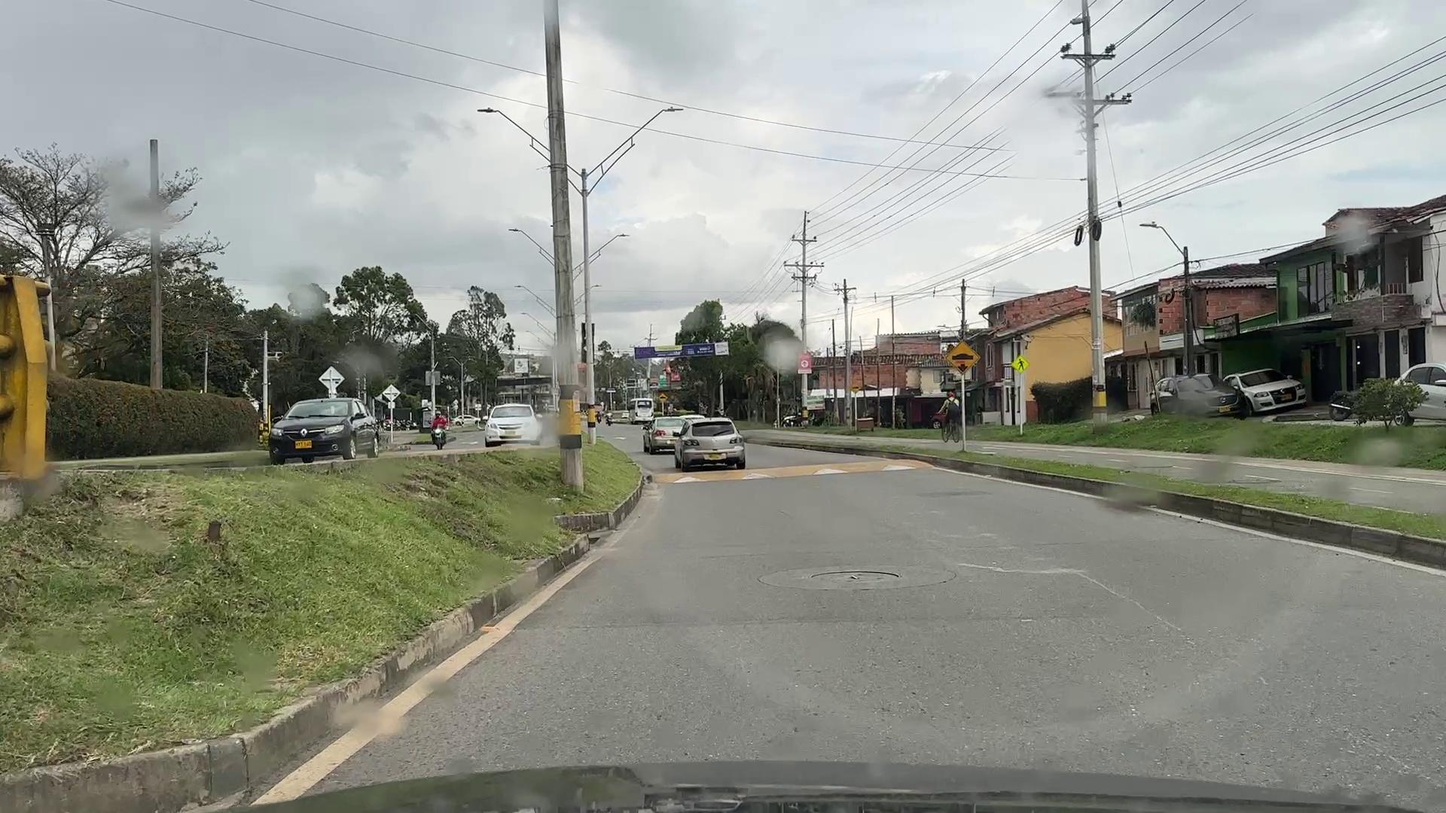registro: (811, 571, 899, 582)
rejilla: (589, 537, 600, 546)
